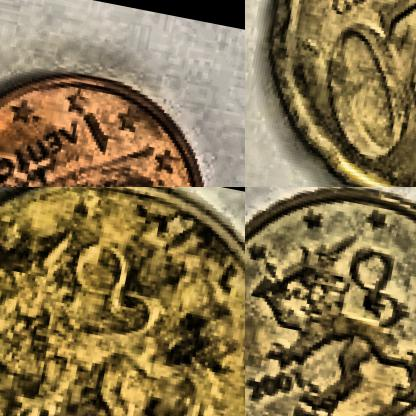coin: (0, 187, 244, 415), (245, 187, 415, 415), (0, 48, 233, 186), (245, 0, 415, 186)
